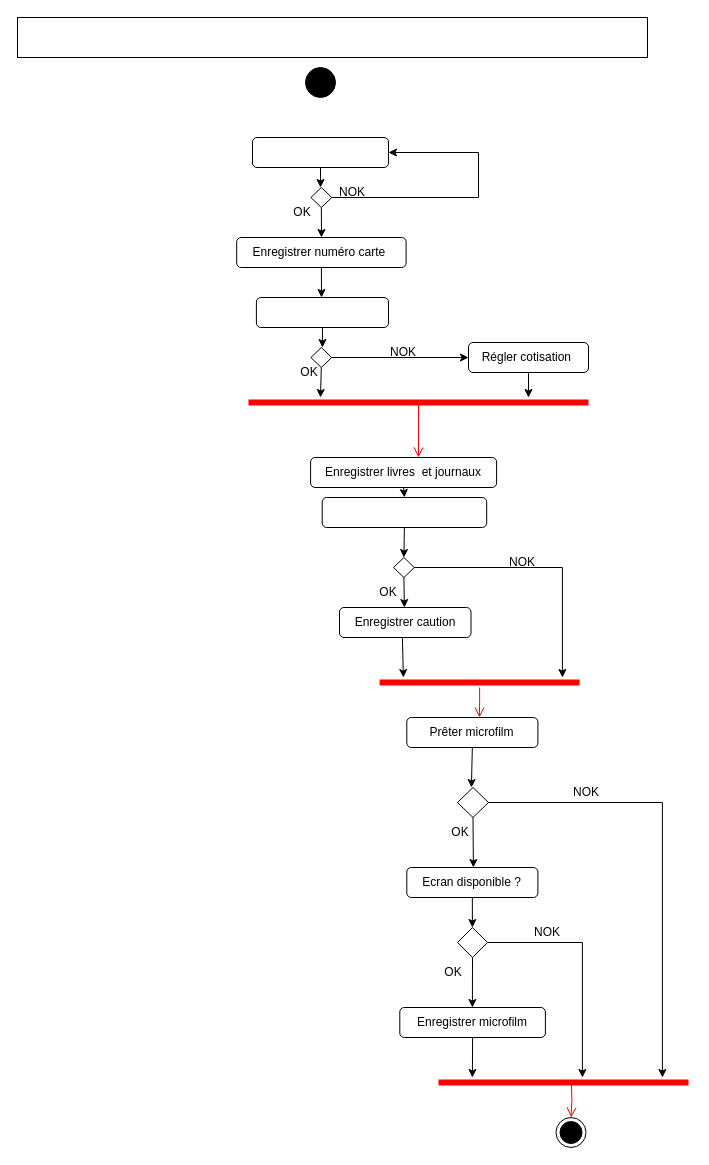
This 709x1165 diagram has some shape labels left out. The centre of each missing label's shape, as x and y in pixels:
Diagramme d'Activité - au prêt d'un document: (332,37)
Enregistrer CD-ROM: (404,512)
Entrer numéro lecteur: (320,152)
Vérifier cotisation et nombre documents: (321,312)
